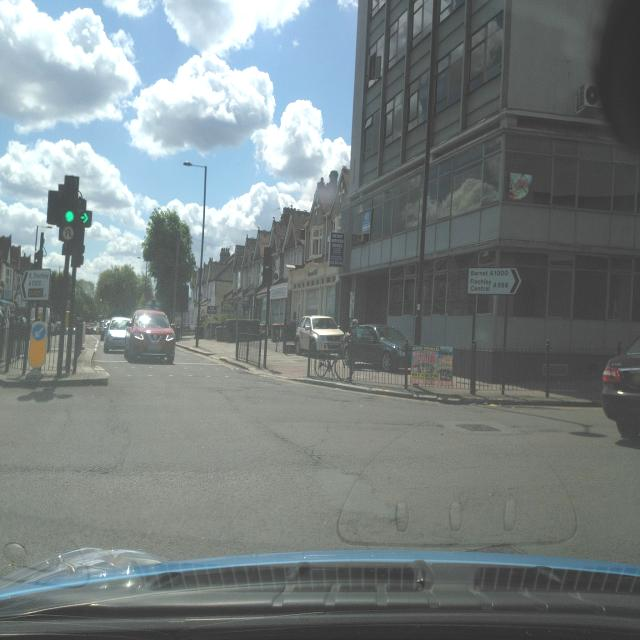car: (600, 322, 640, 447), (340, 323, 413, 372), (123, 309, 176, 364), (296, 314, 346, 358), (103, 318, 130, 352), (99, 323, 109, 340)
